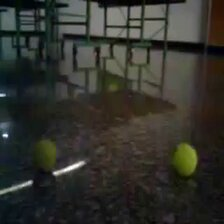tennis: (28, 139, 57, 172), (172, 143, 198, 177)
